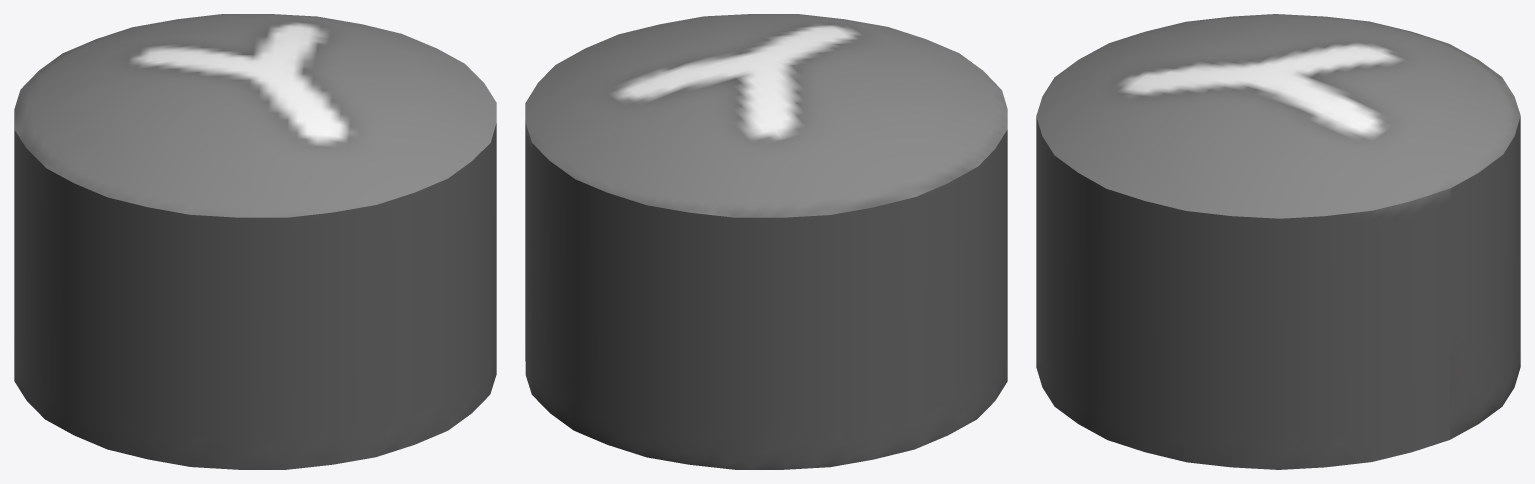
3 views of the same model, side by side, from view 1: azimuth 30°, elevation 25°; view 2: azimuth 150°, elevation 25°; view 3: azimuth 270°, elevation 25° (orthographic).
Bounding box in the file's own units: 0.00967 × 0.0066 × 0.00967.
Materials: 1 (1 with a texture image).
